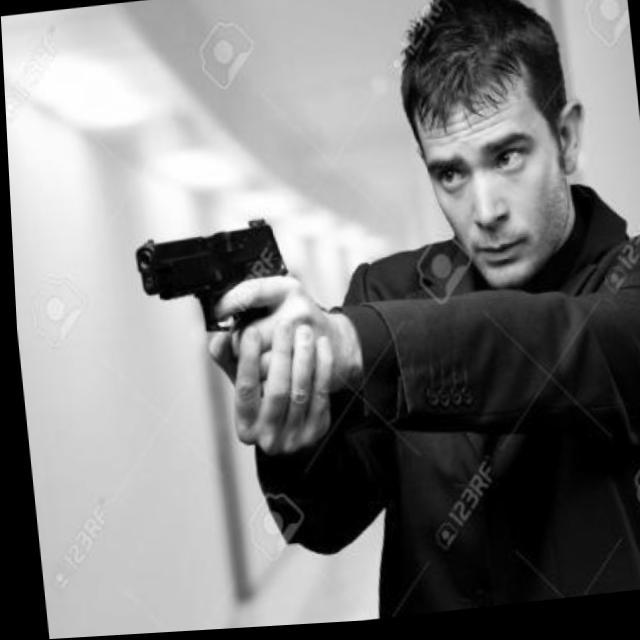weapon: (104, 209, 326, 440)
